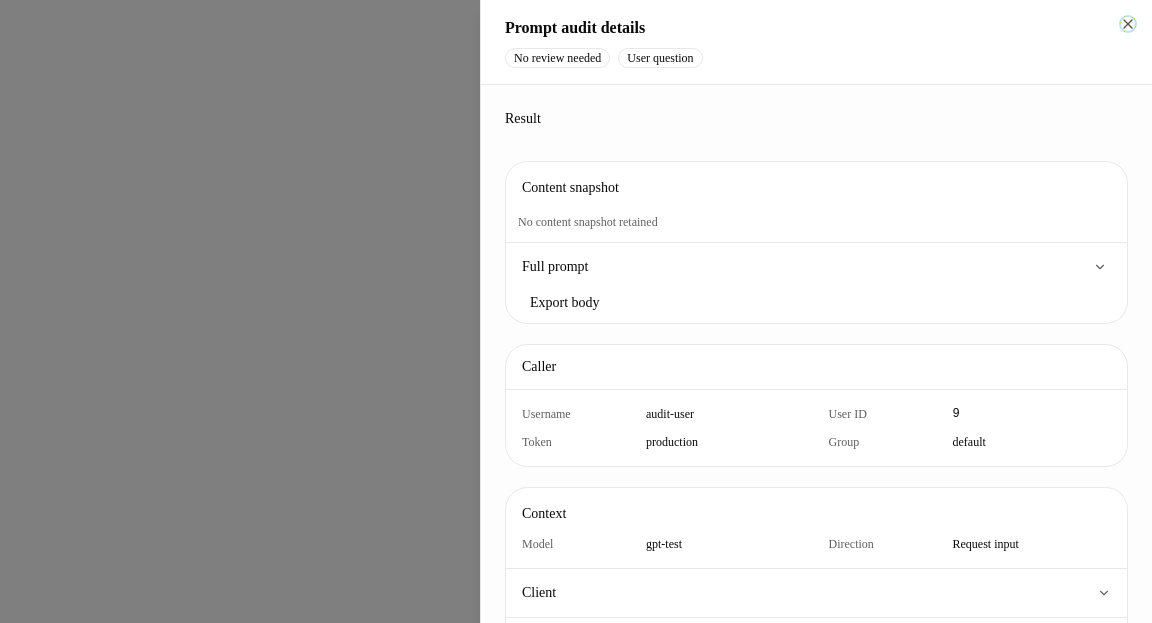
Test: prompt audit management components › describes a stored snapshot without claiming it was inspected (false)
Expected: the text "No content snapshot retained" is shown, x1=518 y1=215 x2=658 y2=229
Click the button "Full prompt": (555, 266) x1=518 y1=247 x2=1111 y2=287
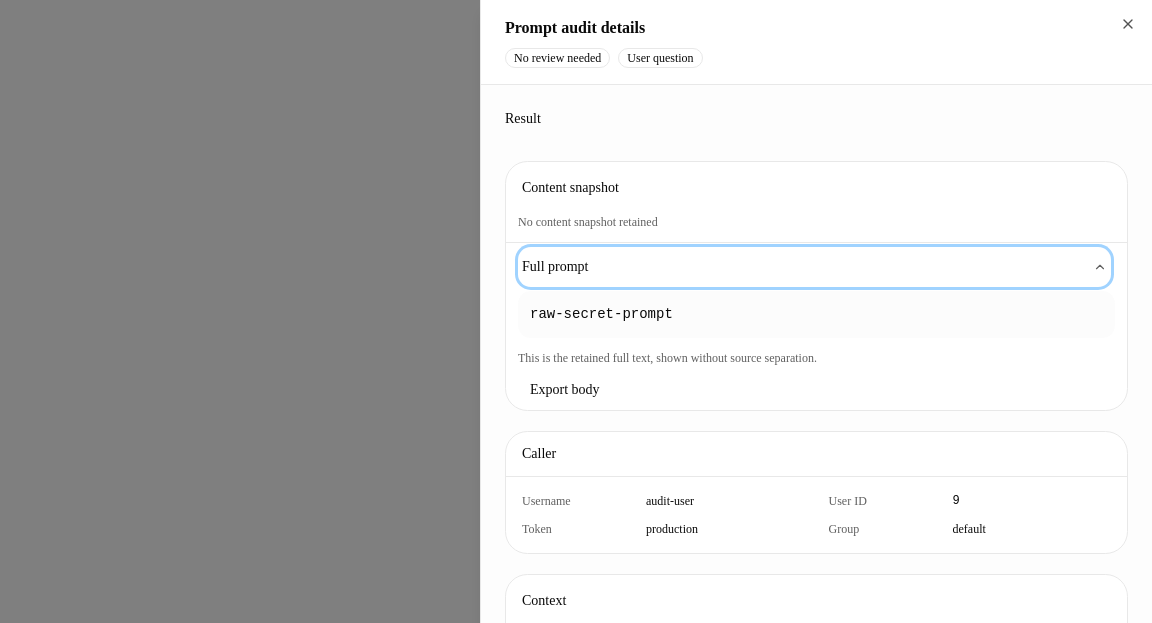
Expected: the text "This is the retained full text, shown without source separation." is shown, x1=518 y1=351 x2=817 y2=365
